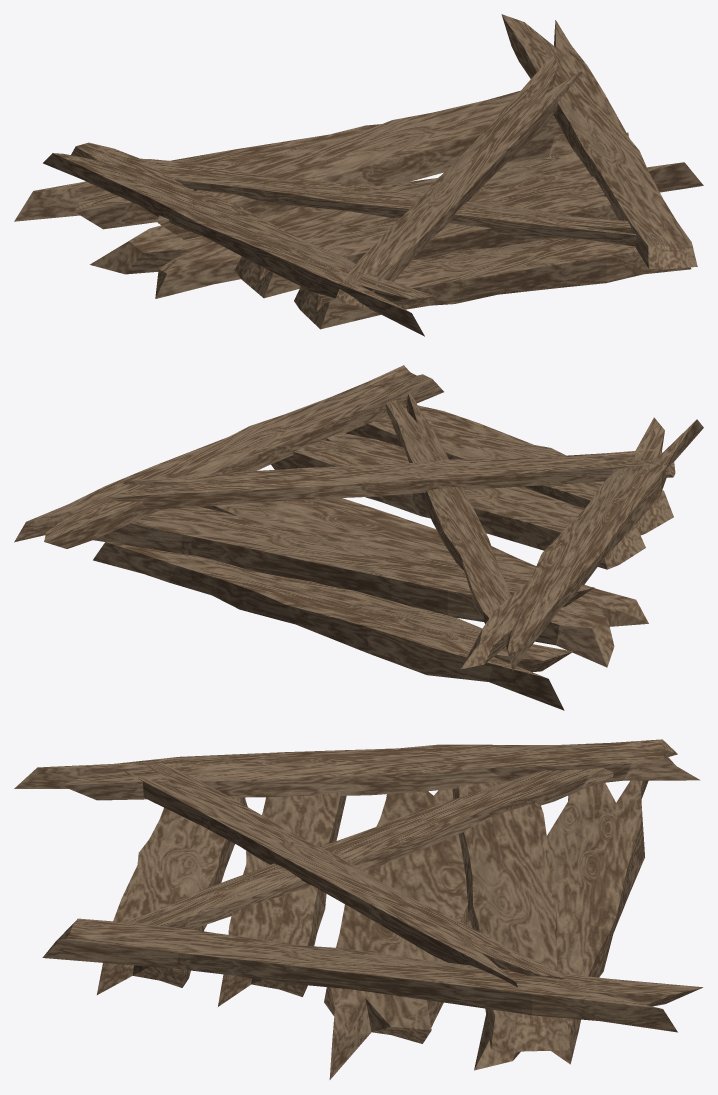
The model's file is Planks.fbx.
3 views of the same model, one above another, from view 1: azimuth 30°, elevation 25°; view 2: azimuth 150°, elevation 25°; view 3: azimuth 270°, elevation 25° (orthographic). The views are drawn at different scales.
Visible parts, largest first — view 1: Cube.003, Cube.005, Cube.004, Cube.007, Cube.006, Cube.017, Cube.008, Cube.002, Cube.001; view 2: Cube.001, Cube.005, Cube.017, Cube.004, Cube.003, Cube.006, Cube.002, Cube.008, Cube.007; view 3: Cube.004, Cube.003, Cube.017, Cube.001, Cube.005, Cube.006, Cube.008, Cube.007, Cube.002.
Part boxes in pixels (left/top/right/bottom): Cube.003: left=43, top=142, right=435, bottom=336; Cube.005: left=121, top=90, right=563, bottom=239; Cube.004: left=501, top=14, right=697, bottom=269; Cube.007: left=294, top=237, right=691, bottom=329; Cube.006: left=90, top=132, right=703, bottom=298; Cube.017: left=335, top=54, right=582, bottom=308; Cube.008: left=140, top=158, right=636, bottom=246; Cube.002: left=234, top=176, right=618, bottom=298; Cube.001: left=14, top=124, right=574, bottom=229; Cube.001: left=93, top=542, right=573, bottom=710; Cube.005: left=93, top=507, right=594, bottom=639; Cube.017: left=108, top=449, right=675, bottom=509; Cube.004: left=14, top=365, right=443, bottom=548; Cube.003: left=461, top=417, right=703, bottom=670; Cube.006: left=200, top=498, right=648, bottom=667; Cube.002: left=271, top=432, right=645, bottom=569; Cube.008: left=386, top=393, right=511, bottom=623; Cube.007: left=345, top=405, right=673, bottom=535; Cube.004: left=42, top=918, right=702, bottom=1032; Cube.003: left=14, top=739, right=700, bottom=800; Cube.017: left=125, top=762, right=569, bottom=987; Cube.001: left=474, top=780, right=648, bottom=1070; Cube.005: left=452, top=782, right=570, bottom=1051; Cube.006: left=324, top=789, right=471, bottom=1079; Cube.008: left=124, top=767, right=613, bottom=929; Cube.007: left=97, top=797, right=247, bottom=994; Cube.002: left=218, top=792, right=346, bottom=1006.
Size of the model in its own units: 303 by 40 by 286.
